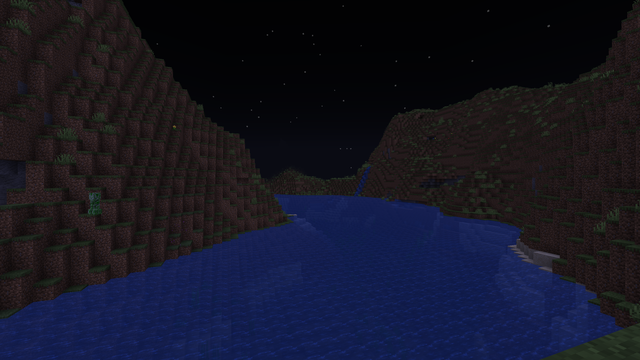creepers: (88, 191, 101, 214)
